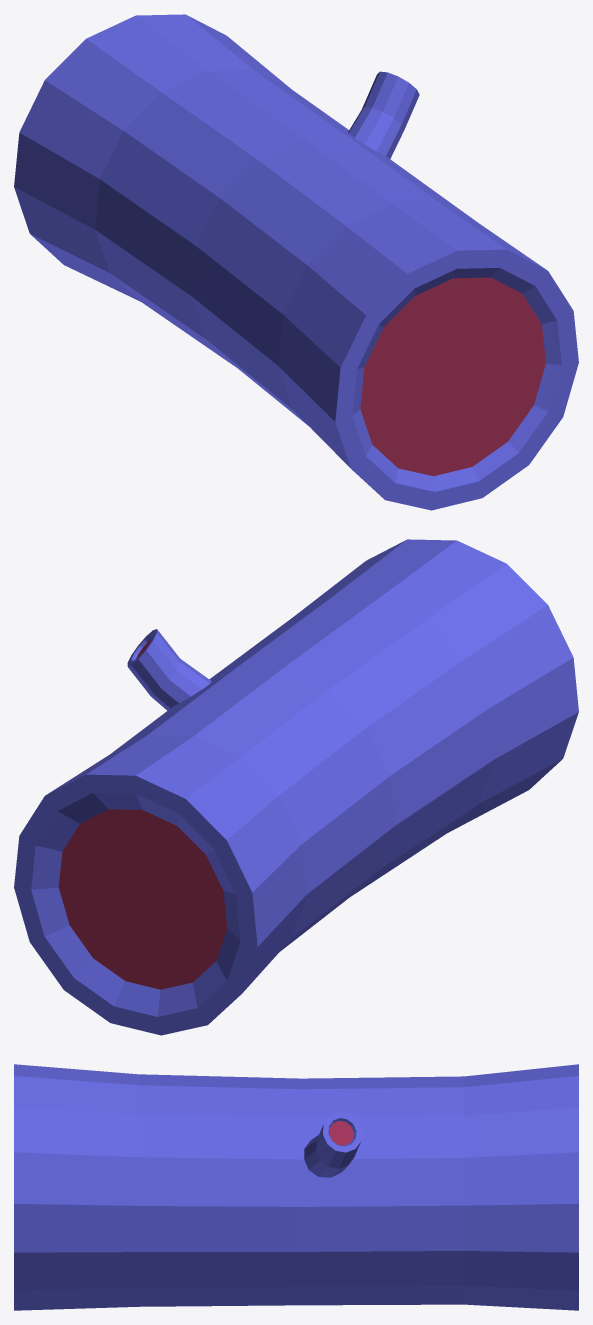
Rendered from CheckpointLog.fbx.
3 renders of one model, top to bottom at view 1: azimuth 30°, elevation 25°; view 2: azimuth 150°, elevation 25°; view 3: azimuth 270°, elevation 25°, orthographic. The views are drawn at different scales.
Parts seen in each view (by area): view 1: DebugLog; view 2: DebugLog; view 3: DebugLog.
Part boxes in pixels (left/top/right/bottom): DebugLog: left=14, top=14, right=578, bottom=510; DebugLog: left=14, top=539, right=578, bottom=1035; DebugLog: left=14, top=1064, right=578, bottom=1310.
Size of the model in its own units: 35.44 by 74.54 by 34.38.
